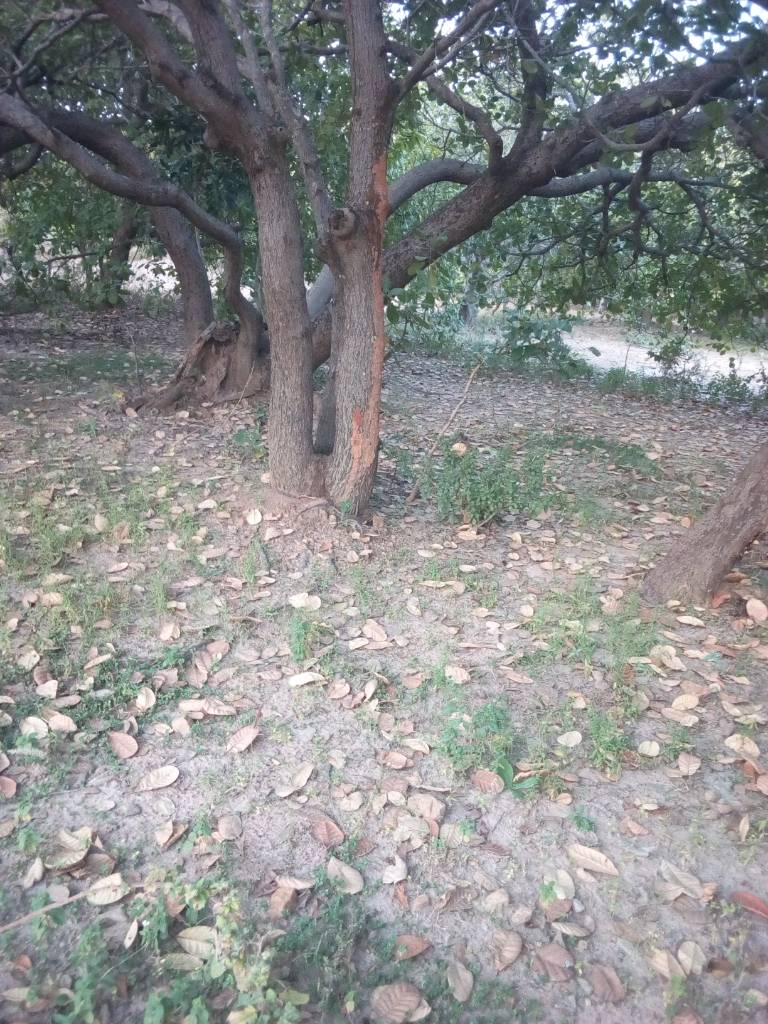Termites: (350, 161, 388, 489)
